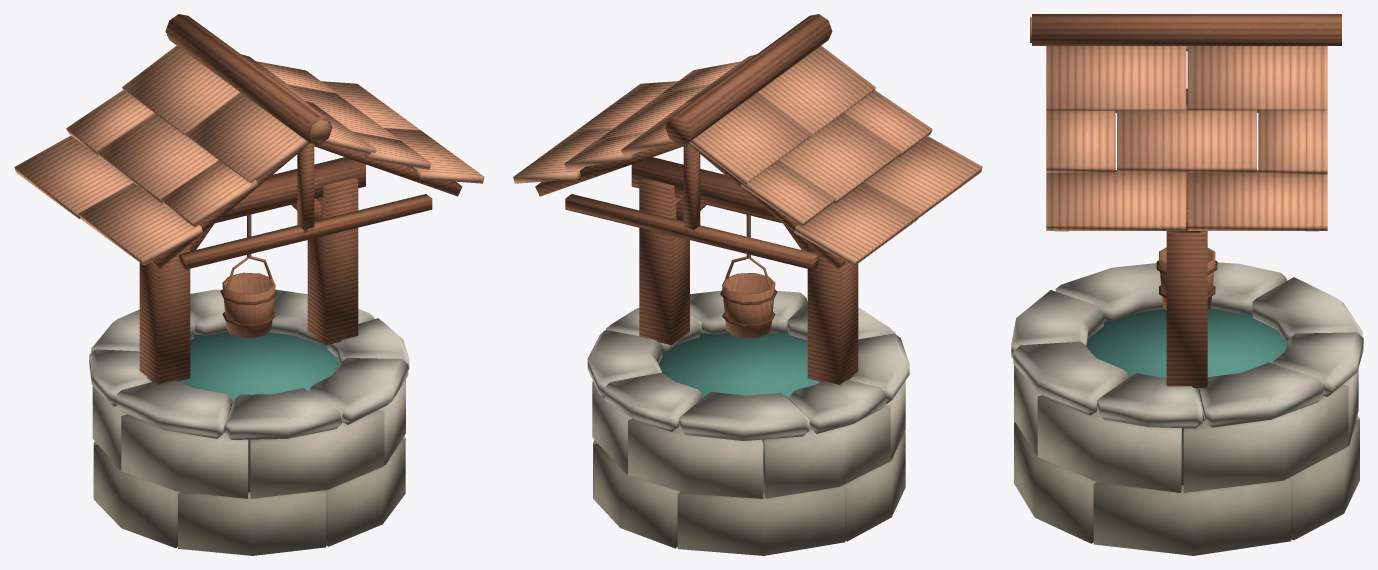
File: well_2_low.glb
3 views of the same model, side by side, from view 1: azimuth 30°, elevation 25°; view 2: azimuth 150°, elevation 25°; view 3: azimuth 270°, elevation 25° (orthographic). The views are drawn at different scales.
Visible parts, largest first — view 1: well_2; view 2: well_2; view 3: well_2.
Boxes of the visible parts, x1,y1,x2,y2 form: well_2: (14, 14, 484, 555); well_2: (513, 14, 982, 555); well_2: (1011, 14, 1363, 555).
Size of the model in its own units: 1.92 by 2.27 by 1.55.
Materials: 1 (1 with a texture image).
